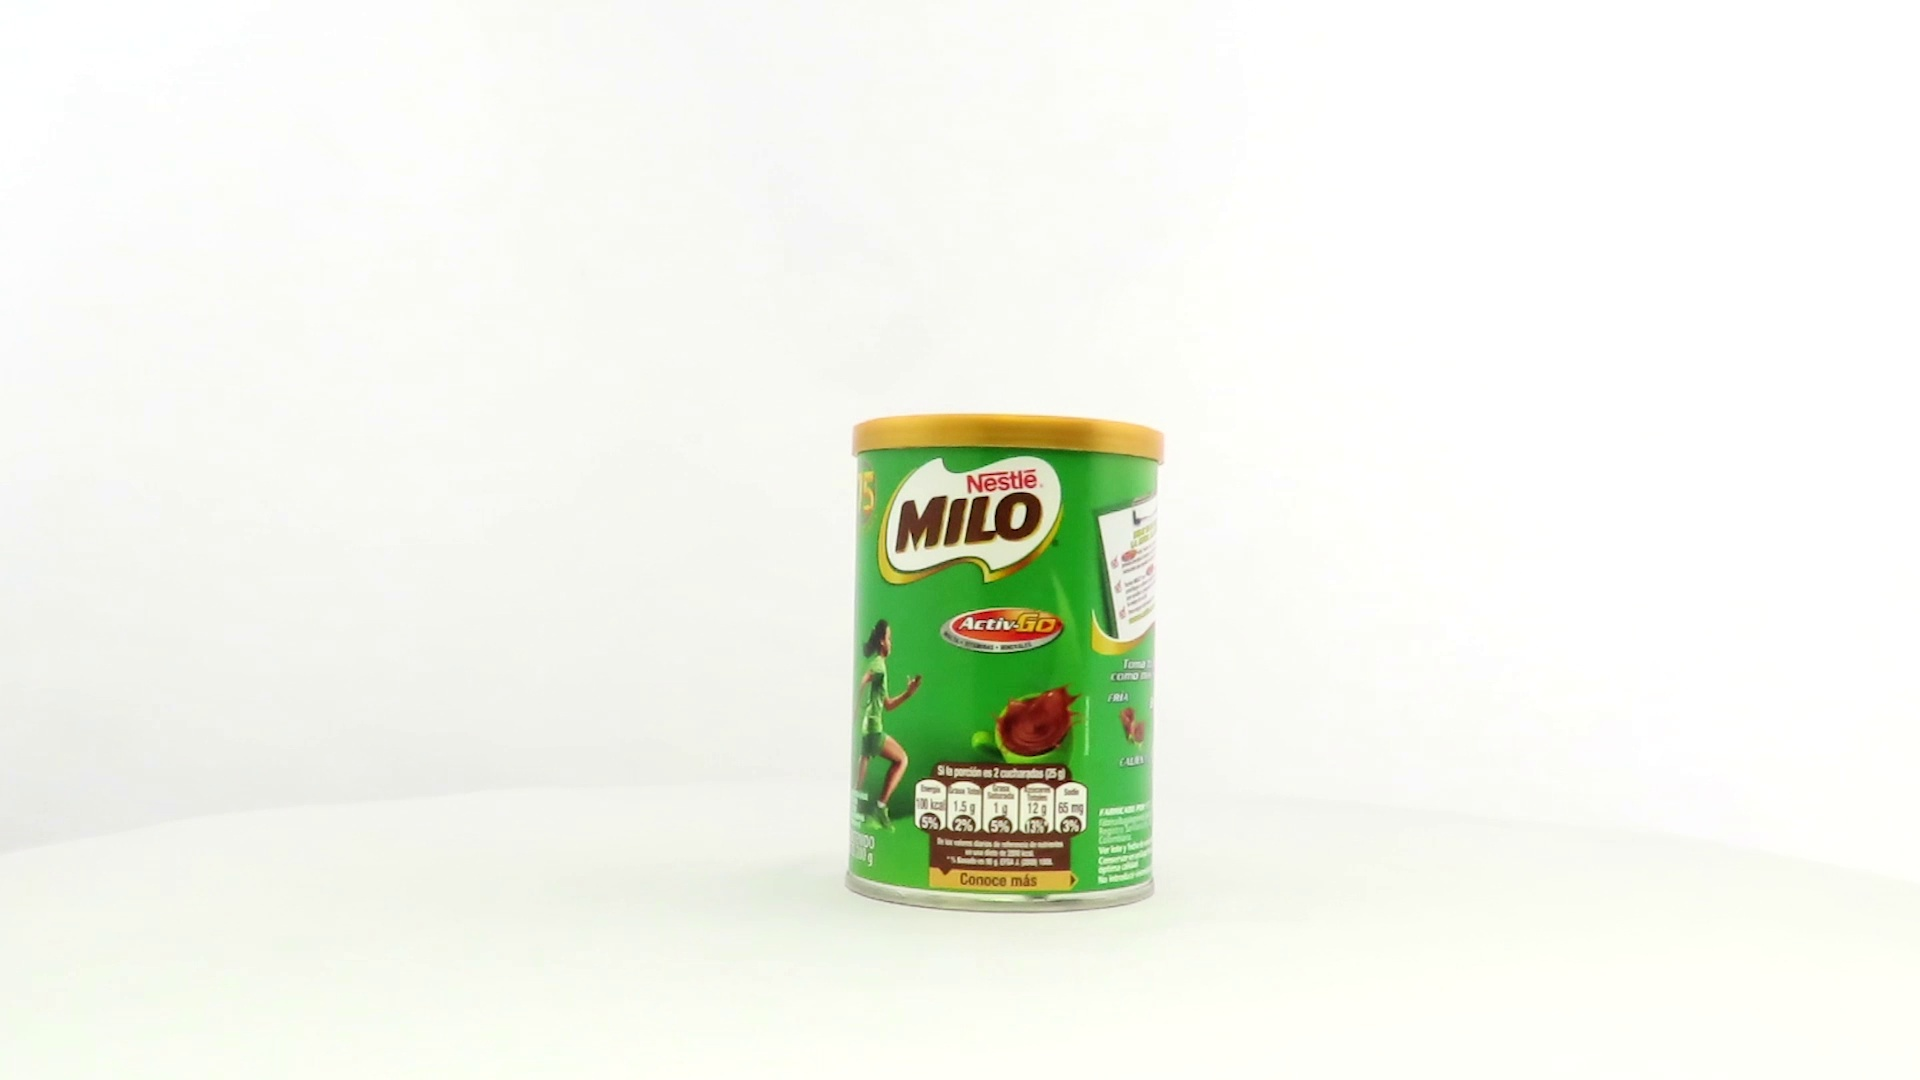COL0170203LAT20000: (839, 407, 1171, 920)
